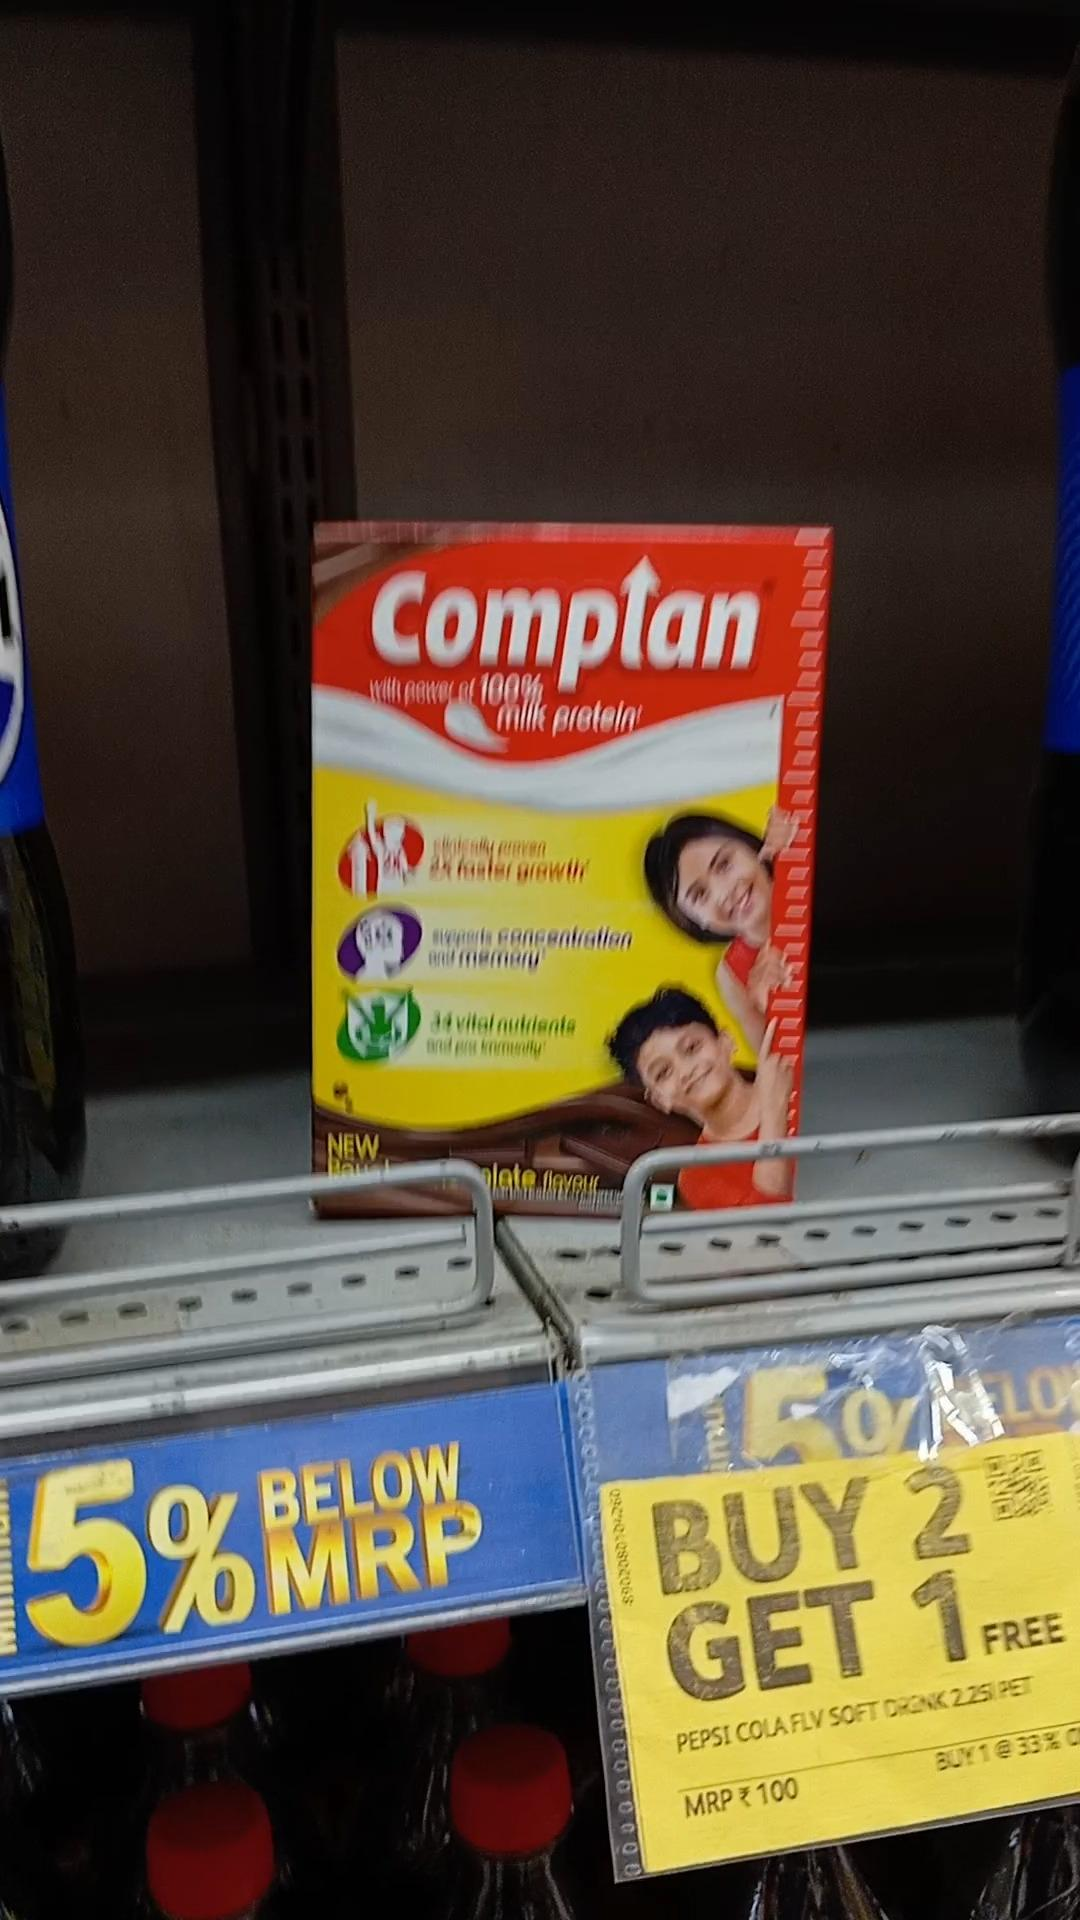COMPLAN_CHOCOLATE_200_GMS_PACK: (320, 525, 795, 1205)
